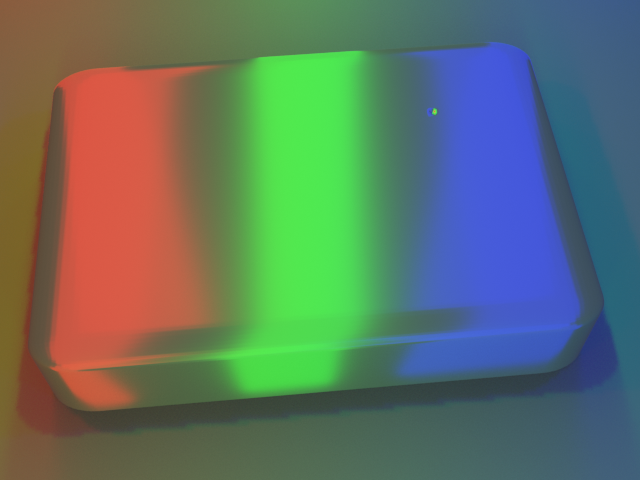dent: (428, 85, 459, 114)
